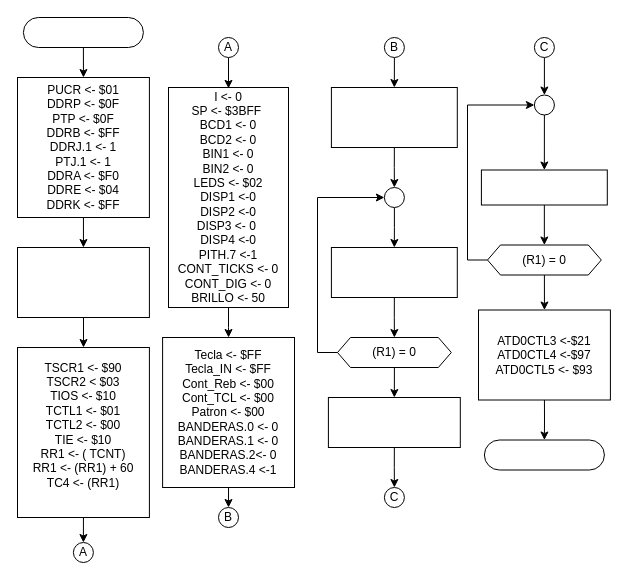
Image size: 628x580. Some labels were removed from this diagram. The shapes that lost their labels are listed below. From the top down, each one's centre as x and y in pixels, then its label:
At [82,32]: "CONFIG_HW".
At [393,117]: "CantPQ <- $00 R1 <- (MAX_TCL) J <- NUM_ARRAY -1".
At [543,187]: "R2 <- (R2) - 1".
At [82,282]: "PIEH <- $0F PIFH <- $0F CRGINT.7 <- 1 RTICTL<- $17".
At [393,272]: "((R1)+(J)) <- $FF R1 <- (R1) -1".
At [393,422]: "ATD0CTL2 <- $DE R2 <- 200".
At [543,454]: "RETORNAR".
